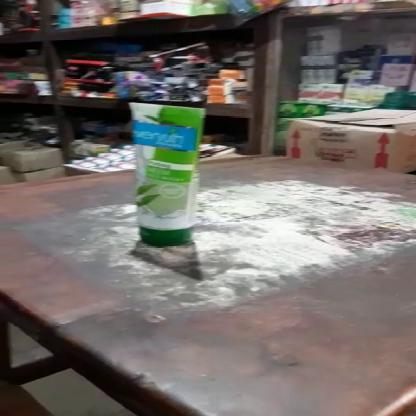EY NATURALS NEEM FACE WASH AY 50G: (126, 102, 204, 248)
